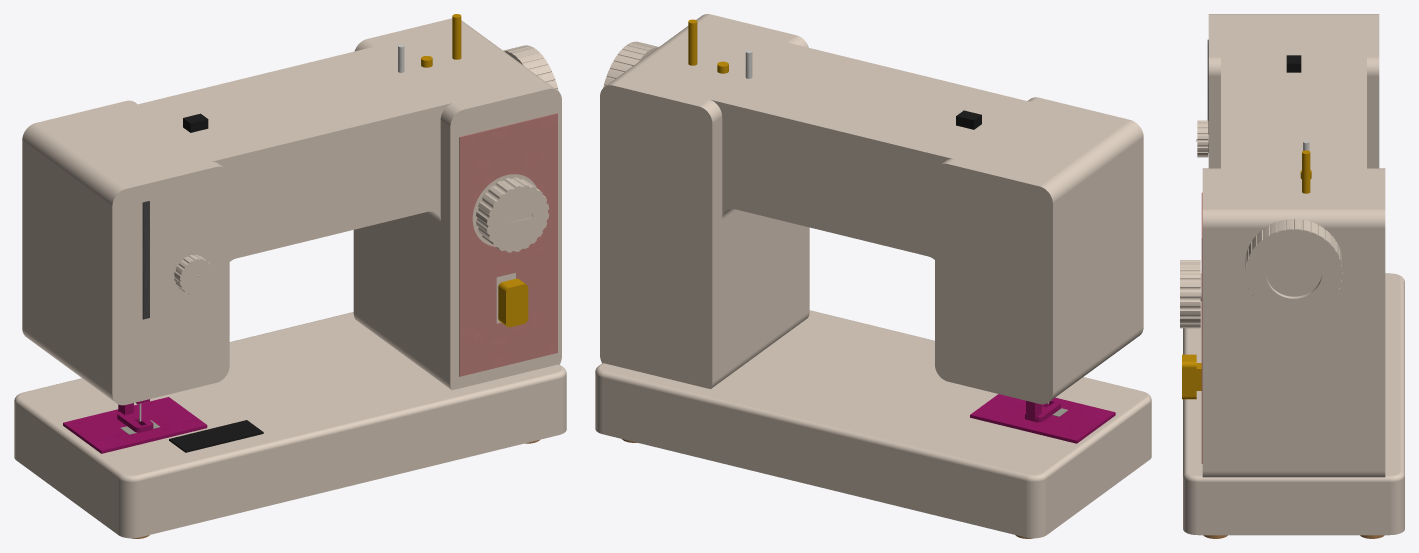
File: sewing_machine__0000.glb
3 renders of one model, left to right at view 1: azimuth 30°, elevation 25°; view 2: azimuth 150°, elevation 25°; view 3: azimuth 270°, elevation 25°, orthographic. The views are drawn at different scales.
Visible parts, largest first — view 1: chassis::body_shell, chassis::bed_shell, chassis::front_art_panel, stitch_dial::stitch_dial_cap, chassis::needle_plate, chassis::bobbin_cover, reverse_lever::reverse_lever_paddle, tension_dial::tension_dial_cap, handwheel::handwheel_cap, chassis::takeup_slot; view 2: chassis::body_shell, chassis::bed_shell, chassis::needle_plate, handwheel::handwheel_cap; view 3: chassis::body_shell, chassis::bed_shell, handwheel::handwheel_cap, stitch_dial::stitch_dial_cap, reverse_lever::reverse_lever_paddle, chassis::front_art_panel, tension_dial::tension_dial_cap, chassis::spool_pin, chassis::thread_guide.
Part boxes in pixels (<box>): chassis::body_shell: <box>22,18,561,405</box>; chassis::bed_shell: <box>14,312,566,538</box>; chassis::front_art_panel: <box>459,113,557,376</box>; stitch_dial::stitch_dial_cap: <box>476,177,549,252</box>; chassis::needle_plate: <box>63,397,207,453</box>; chassis::bobbin_cover: <box>169,420,263,452</box>; reverse_lever::reverse_lever_paddle: <box>498,278,528,327</box>; tension_dial::tension_dial_cap: <box>174,254,213,294</box>; handwheel::handwheel_cap: <box>503,45,558,91</box>; chassis::takeup_slot: <box>142,201,149,319</box>; chassis::body_shell: <box>600,14,1143,404</box>; chassis::bed_shell: <box>595,310,1151,538</box>; chassis::needle_plate: <box>970,394,1115,443</box>; handwheel::handwheel_cap: <box>603,41,658,87</box>; chassis::body_shell: <box>1202,14,1385,477</box>; chassis::bed_shell: <box>1183,273,1404,535</box>; handwheel::handwheel_cap: <box>1245,219,1342,317</box>; stitch_dial::stitch_dial_cap: <box>1180,260,1200,328</box>; reverse_lever::reverse_lever_paddle: <box>1182,354,1196,399</box>; chassis::front_art_panel: <box>1201,192,1202,463</box>; tension_dial::tension_dial_cap: <box>1196,120,1208,157</box>; chassis::spool_pin: <box>1302,150,1310,193</box>; chassis::thread_guide: <box>1286,55,1301,72</box>.
Bounding box in the file's own units: 0.42 × 0.336 × 0.1847.
9 materials, 5 textured.
